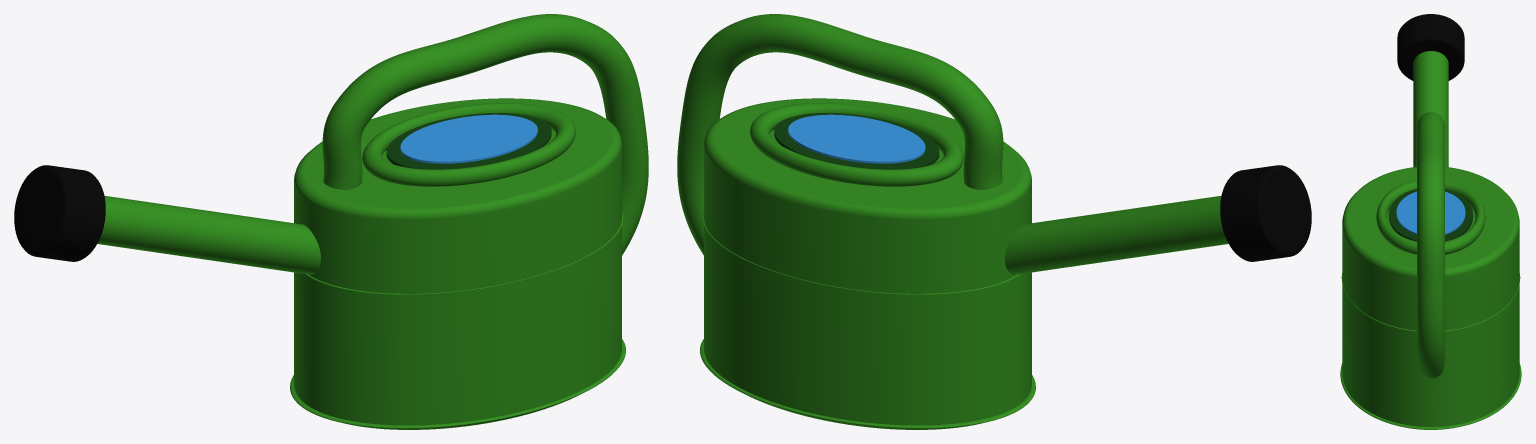
File: Large_Watering_Can.obj
3 renders of one model, left to right at view 1: azimuth 30°, elevation 25°; view 2: azimuth 150°, elevation 25°; view 3: azimuth 270°, elevation 25°, orthographic. The views are drawn at different scales.
Visible parts, largest first — view 1: SM_Watering_Can_Greener_Body, SM_Watering_Can_Round_Handle, SM_Watering_Can_Long_Spout, SM_Watering_Can_Black_Shower_Headkopf, SM_Watering_Can_Filling_Rim, SM_Watering_Can_Water_Level, SM_Watering_Can_Filling_Hole_Dark, SM_Watering_Can_Lower_Ring, SM_Watering_Can_Middle_Ring; view 2: SM_Watering_Can_Greener_Body, SM_Watering_Can_Round_Handle, SM_Watering_Can_Long_Spout, SM_Watering_Can_Black_Shower_Headkopf, SM_Watering_Can_Filling_Rim, SM_Watering_Can_Water_Level, SM_Watering_Can_Filling_Hole_Dark, SM_Watering_Can_Lower_Ring, SM_Watering_Can_Middle_Ring; view 3: SM_Watering_Can_Greener_Body, SM_Watering_Can_Round_Handle, SM_Watering_Can_Black_Shower_Headkopf, SM_Watering_Can_Long_Spout, SM_Watering_Can_Filling_Rim, SM_Watering_Can_Water_Level, SM_Watering_Can_Filling_Hole_Dark, SM_Watering_Can_Lower_Ring, SM_Watering_Can_Middle_Ring.
Boxes of the visible parts, box(x1,y1,x2,y2) form: SM_Watering_Can_Greener_Body: box(294, 98, 621, 429); SM_Watering_Can_Round_Handle: box(322, 14, 648, 255); SM_Watering_Can_Long_Spout: box(97, 195, 320, 274); SM_Watering_Can_Black_Shower_Headkopf: box(14, 165, 105, 261); SM_Watering_Can_Filling_Rim: box(362, 103, 575, 186); SM_Watering_Can_Water_Level: box(400, 114, 537, 163); SM_Watering_Can_Filling_Hole_Dark: box(386, 113, 551, 169); SM_Watering_Can_Lower_Ring: box(290, 339, 625, 428); SM_Watering_Can_Middle_Ring: box(305, 211, 623, 294); SM_Watering_Can_Greener_Body: box(704, 98, 1031, 429); SM_Watering_Can_Round_Handle: box(677, 14, 1003, 255); SM_Watering_Can_Long_Spout: box(1005, 195, 1228, 274); SM_Watering_Can_Black_Shower_Headkopf: box(1220, 165, 1311, 261); SM_Watering_Can_Filling_Rim: box(750, 103, 963, 186); SM_Watering_Can_Water_Level: box(788, 114, 925, 163); SM_Watering_Can_Filling_Hole_Dark: box(774, 113, 939, 169); SM_Watering_Can_Lower_Ring: box(700, 339, 1035, 428); SM_Watering_Can_Middle_Ring: box(702, 211, 1020, 294); SM_Watering_Can_Greener_Body: box(1342, 167, 1519, 429); SM_Watering_Can_Round_Handle: box(1417, 112, 1444, 378); SM_Watering_Can_Black_Shower_Headkopf: box(1397, 14, 1464, 80); SM_Watering_Can_Long_Spout: box(1413, 51, 1448, 167); SM_Watering_Can_Filling_Rim: box(1376, 180, 1485, 254); SM_Watering_Can_Water_Level: box(1396, 191, 1465, 234); SM_Watering_Can_Filling_Hole_Dark: box(1388, 189, 1473, 241); SM_Watering_Can_Lower_Ring: box(1340, 363, 1521, 429); SM_Watering_Can_Middle_Ring: box(1341, 273, 1520, 331).
Bounding box in the file's own units: 2.79 × 1.46 × 0.9711.
